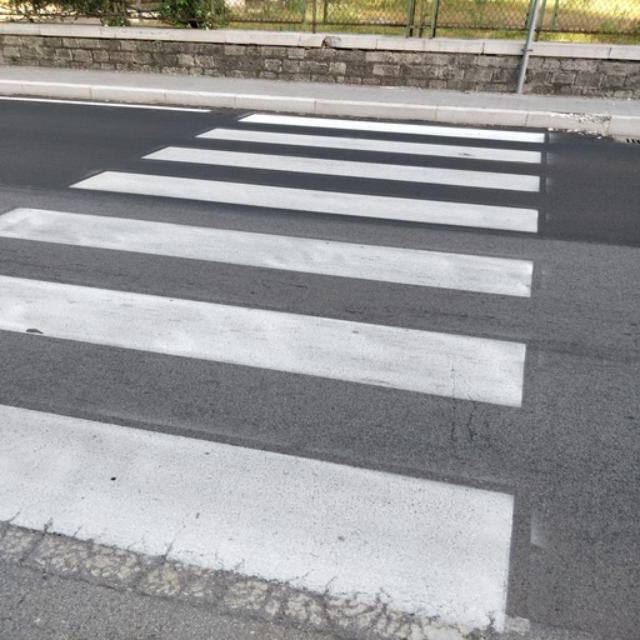sidewalk: (0, 112, 542, 635)
